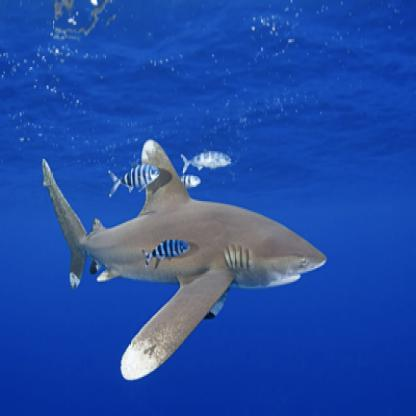shark: (36, 135, 331, 380)
